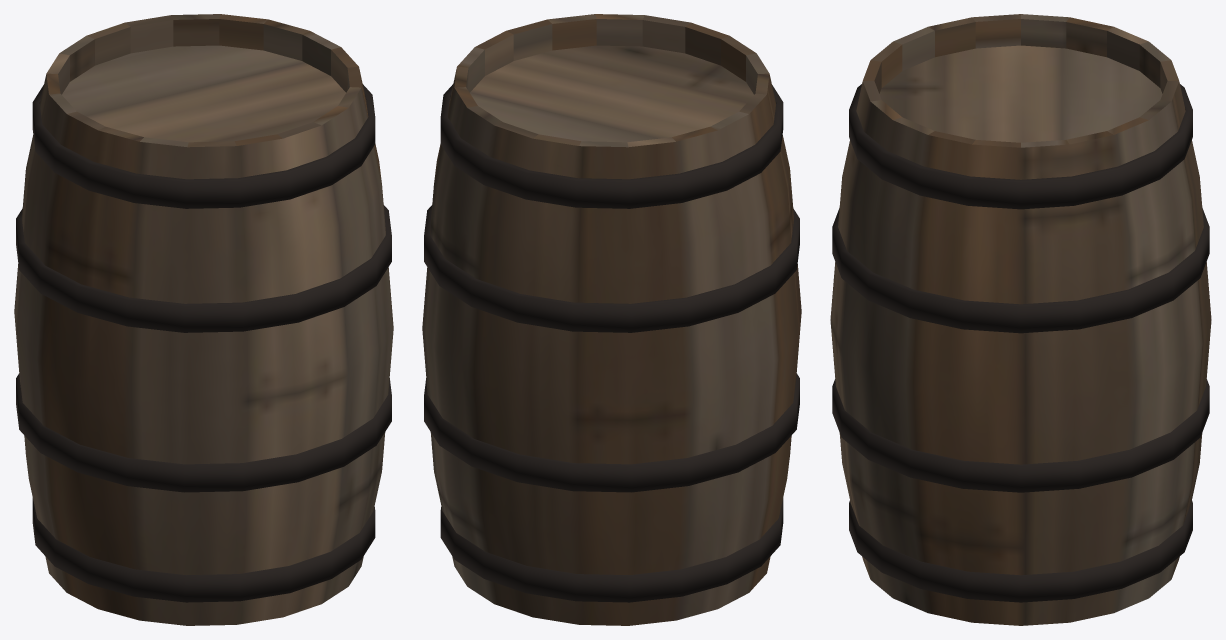
Rendered from barrel.gltf.
3 views of the same model, side by side, from view 1: azimuth 30°, elevation 25°; view 2: azimuth 150°, elevation 25°; view 3: azimuth 270°, elevation 25° (orthographic).
Visible parts, largest first — view 1: barrel; view 2: barrel; view 3: barrel.
Part boxes in pixels (x1=…): barrel: x1=14, y1=14, x2=393, y2=625; barrel: x1=422, y1=14, x2=801, y2=625; barrel: x1=830, y1=14, x2=1211, y2=625.
Size of the model in its own units: 0.65 by 0.9 by 0.65.
2 materials, 1 textured.
